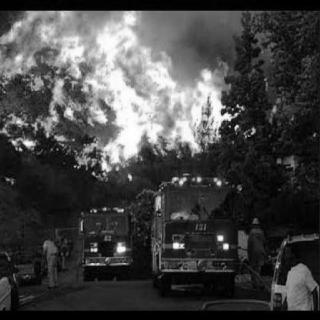Fire: (2, 12, 256, 162)
other: (217, 226, 231, 252), (112, 237, 126, 254)
